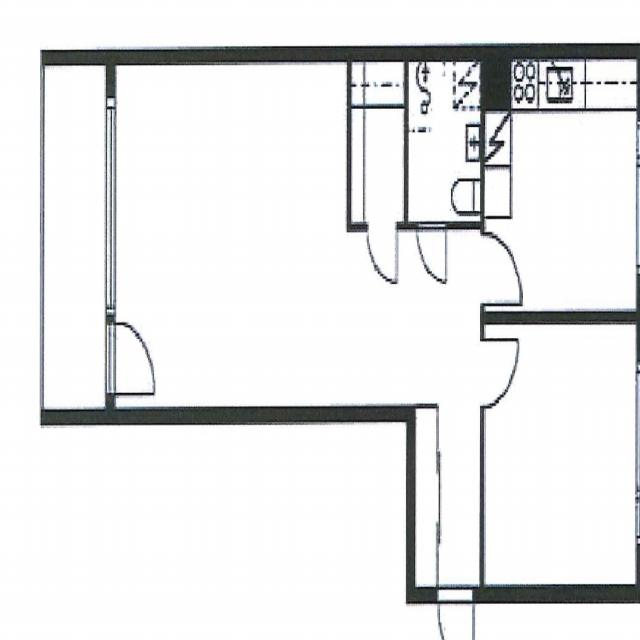door: (107, 324, 153, 393), (480, 234, 522, 304), (480, 339, 520, 406), (439, 585, 475, 640), (418, 221, 447, 284), (368, 221, 396, 283)
